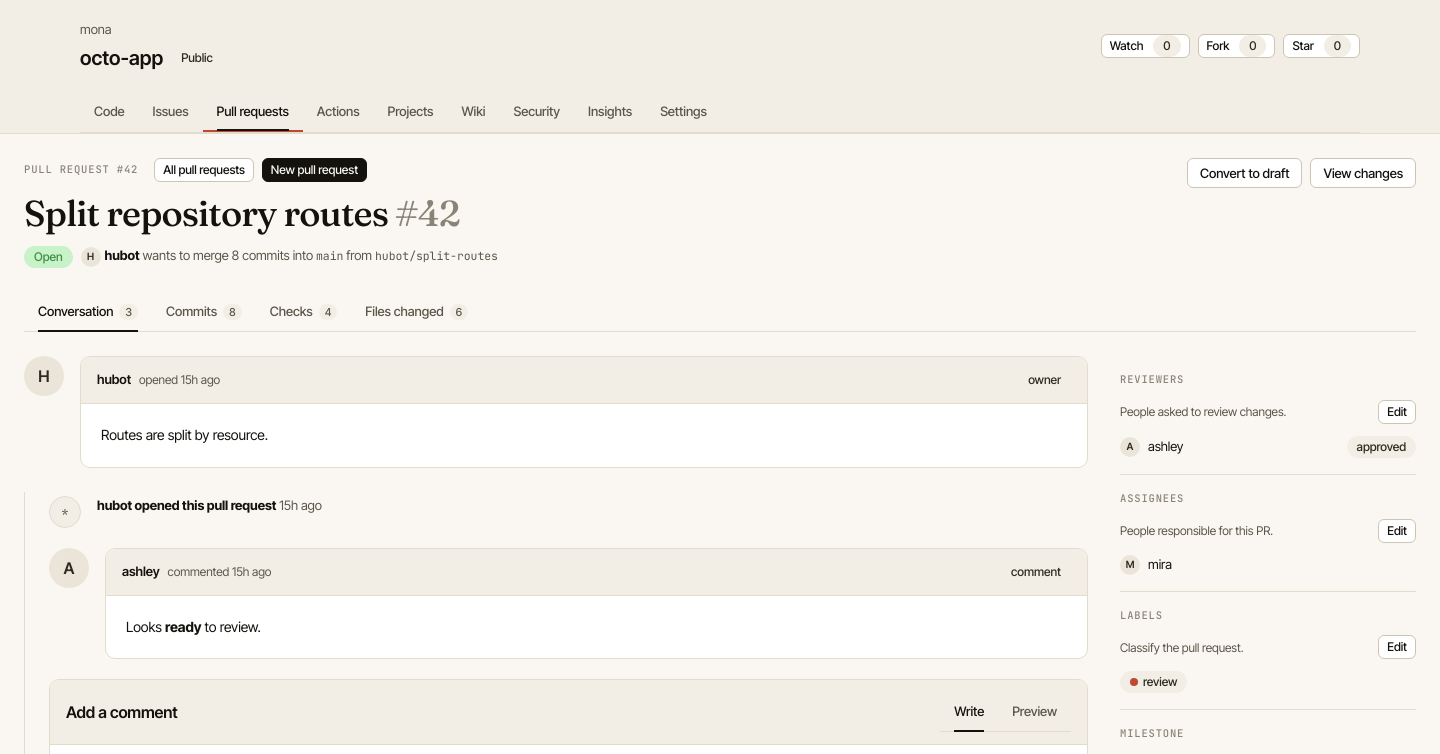
Test: RepositoryPullRequestDetailPage › updates reviewers, metadata, draft state, and notification subscription
Click the button "Edit" next to "People asked to review changes.": {"x": 1397, "y": 412} [1378,400,1416,424]
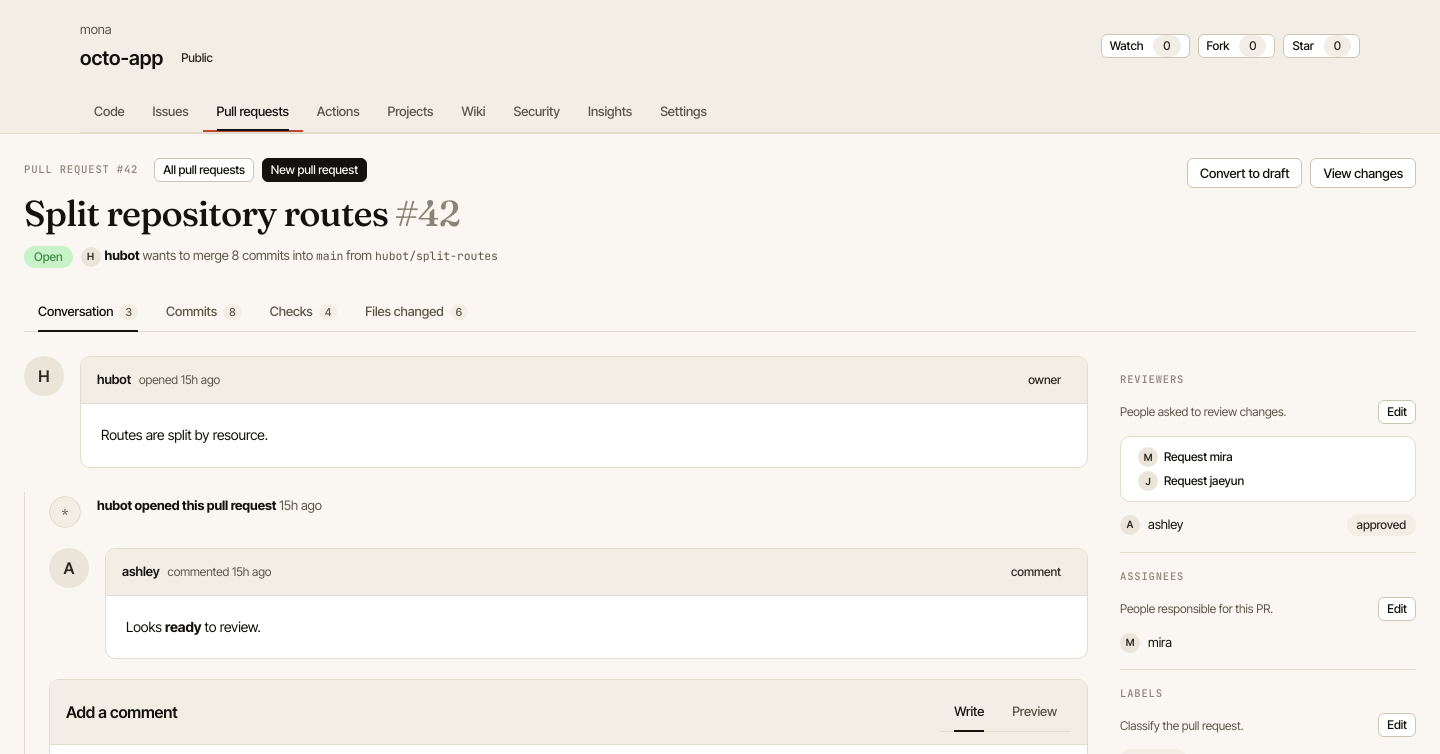
Click the button "J Request jaeyun": {"x": 1186, "y": 480} [1129,469,1407,493]
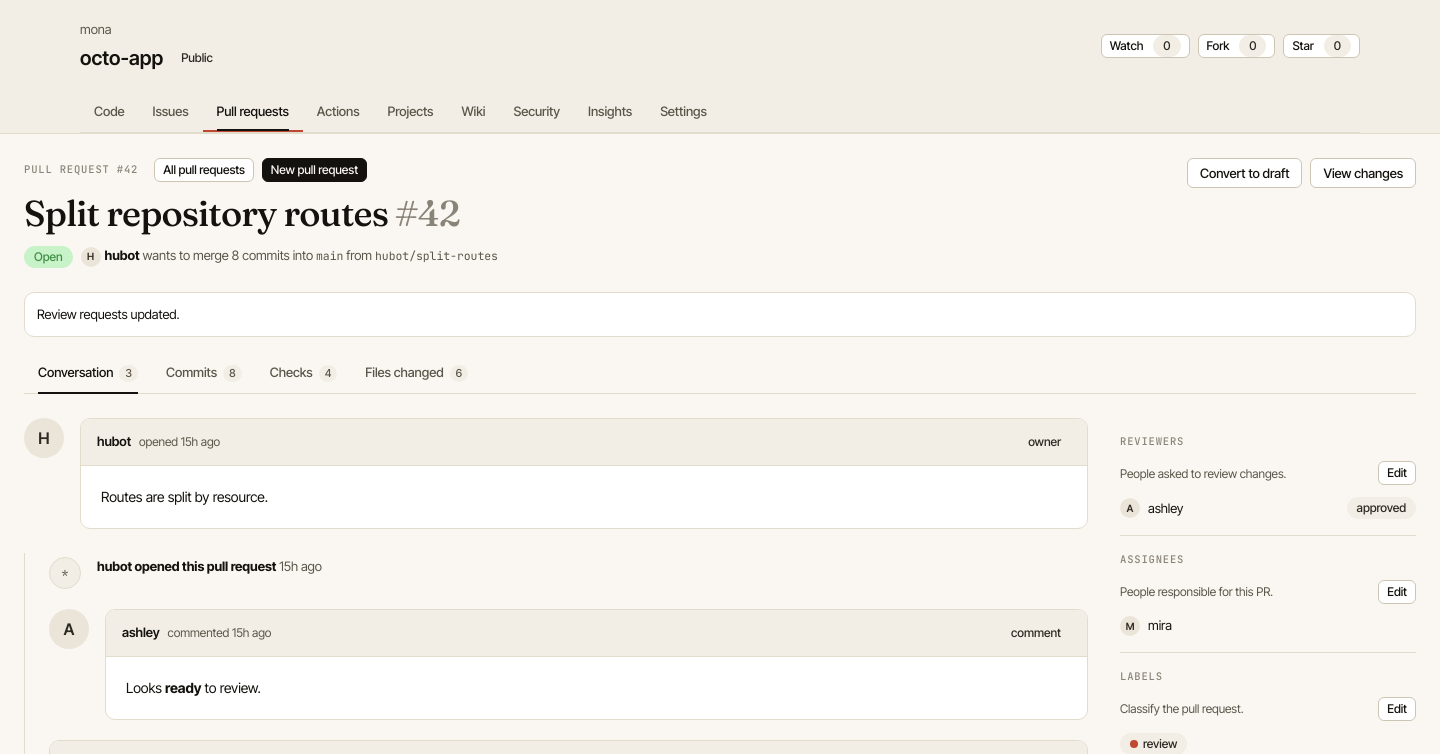
Expected: the text "Review requests updated." is shown, [37,306,180,322]
Click the button "Edit" next to "People responsible for this PR.": {"x": 1397, "y": 592} [1378,580,1416,604]
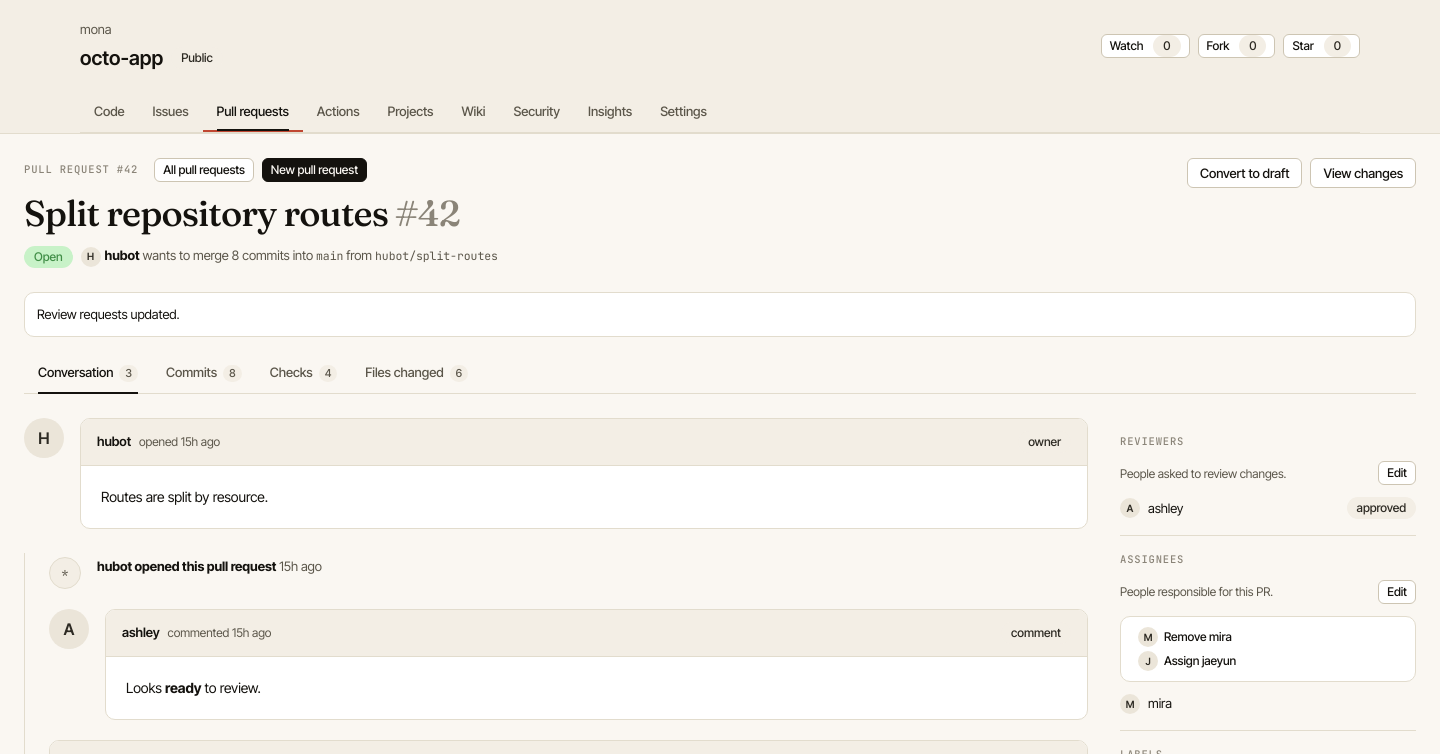
Click the button "J Assign jaeyun": {"x": 1182, "y": 661} [1129,649,1407,673]
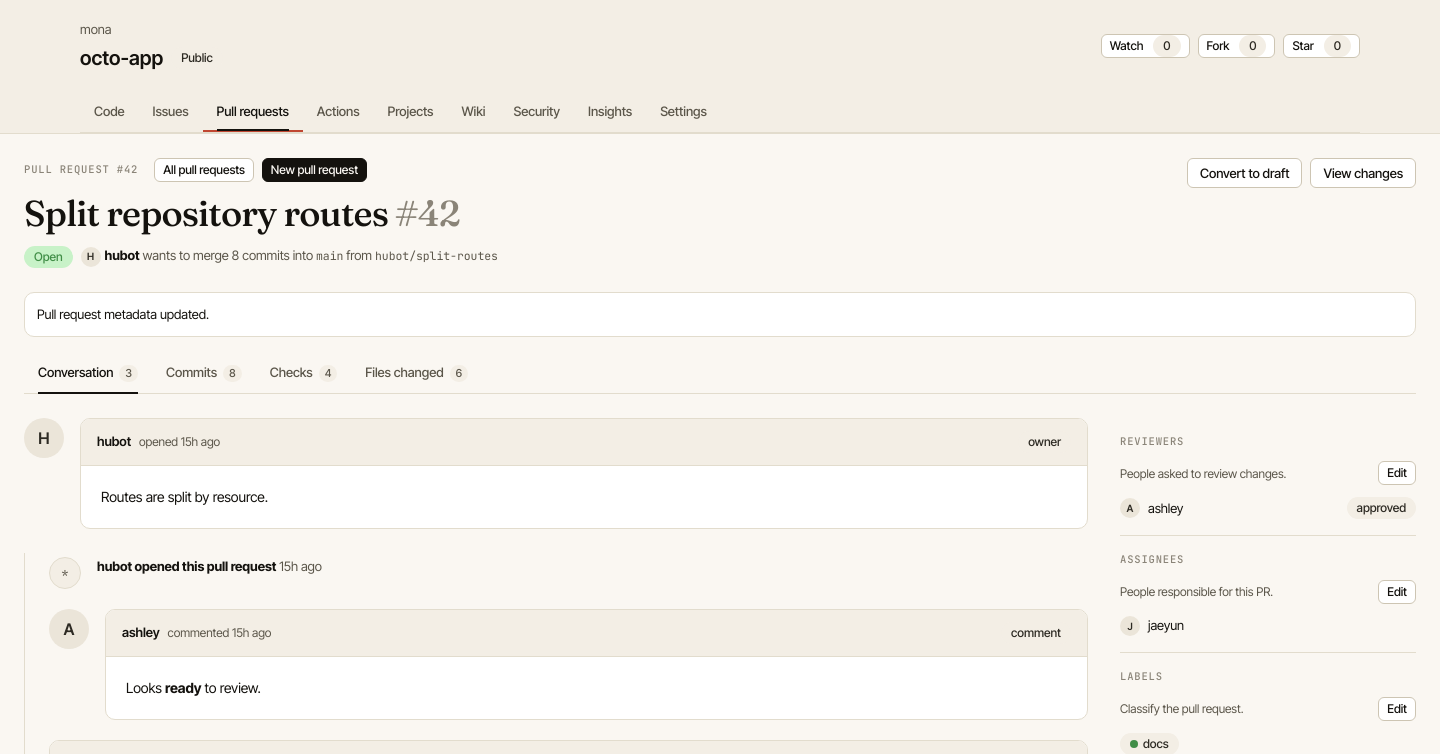
Expected: the text "Pull request metadata updated." is shown, [37,306,209,322]
Click the button "Convert to draft": {"x": 1245, "y": 173} [1187,158,1302,188]
(page scrolled)
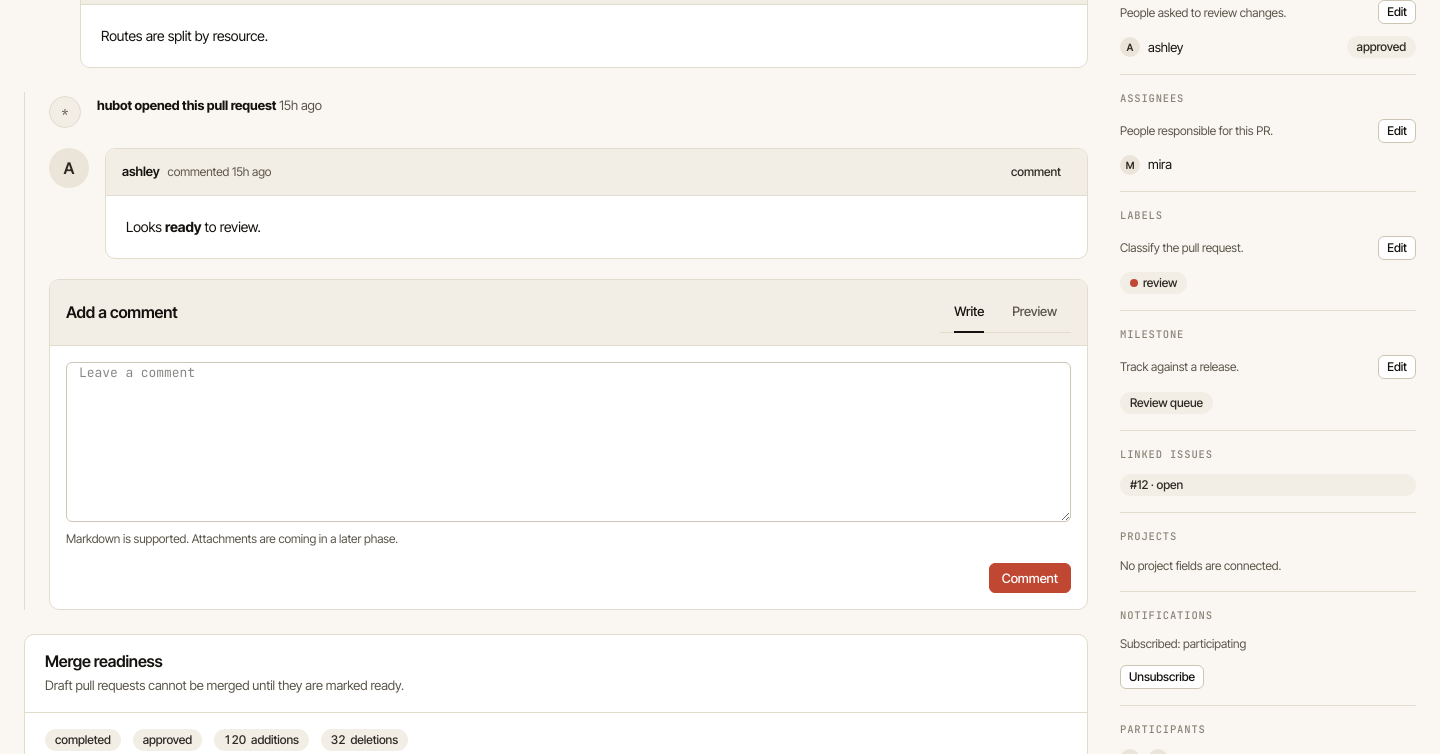
Click the button "Unsubscribe": {"x": 1162, "y": 677} [1120,665,1204,689]
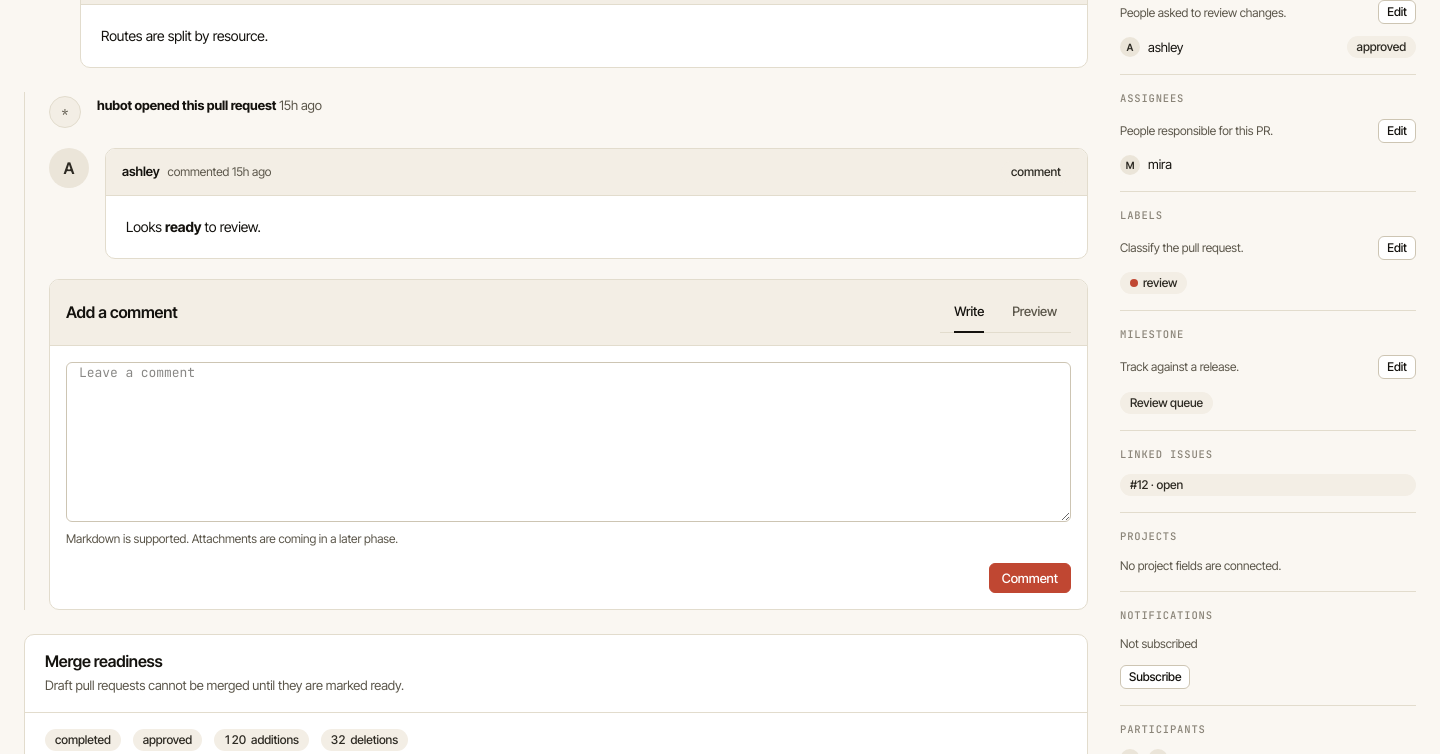
Expected: the text "Not subscribed" is shown, [1120,636,1198,651]
